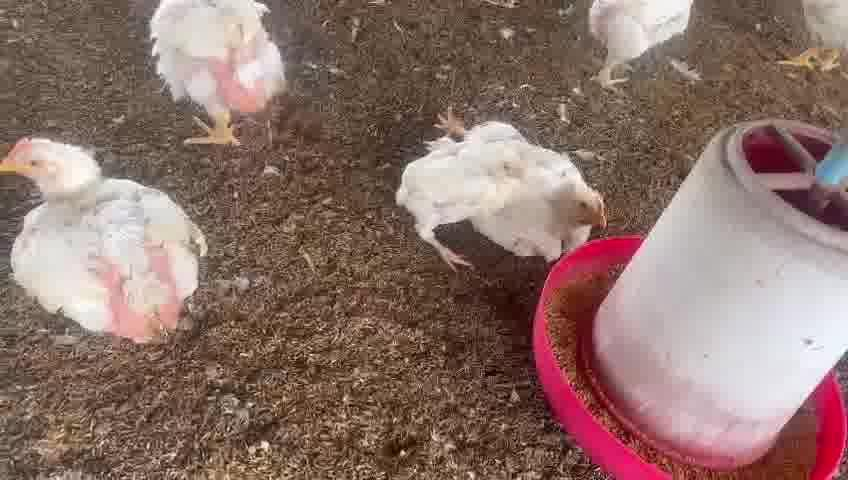AbNormal: (441, 110, 614, 268), (396, 138, 519, 257)
Normal: (1, 130, 205, 361), (147, 0, 292, 156), (584, 1, 695, 96)
